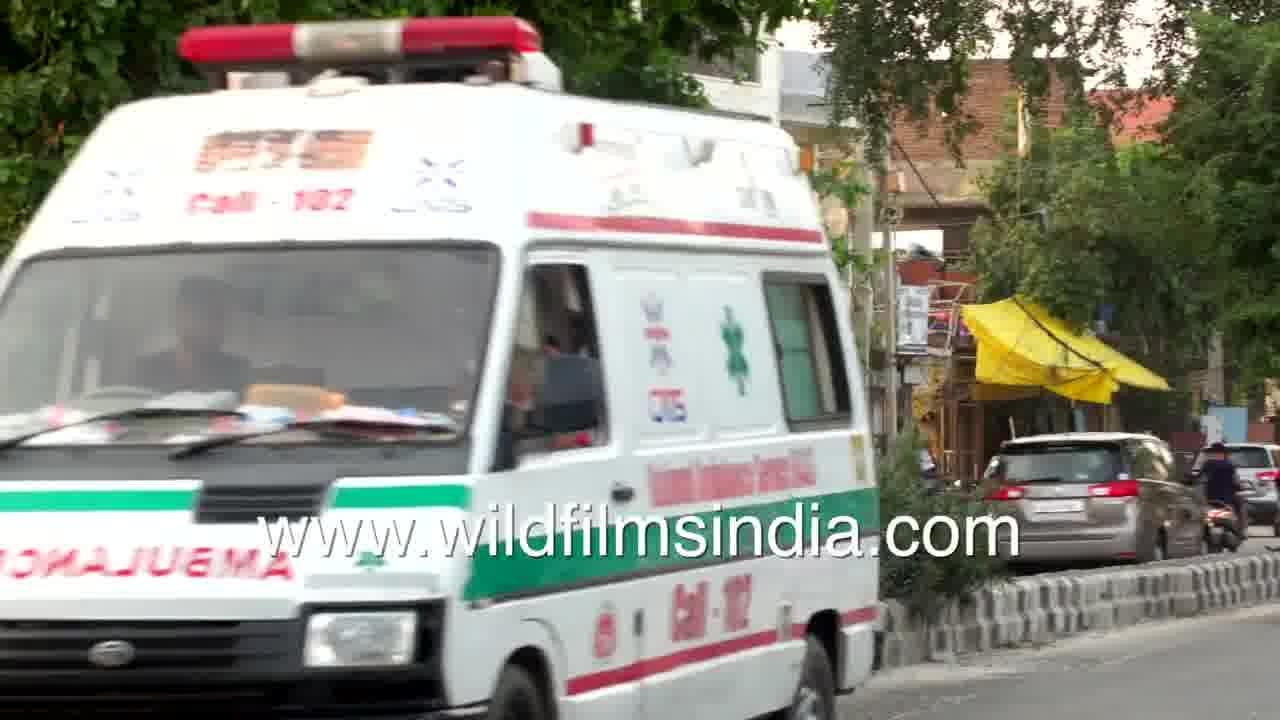AMBULANCE: (19, 0, 925, 611), (31, 581, 865, 720)
